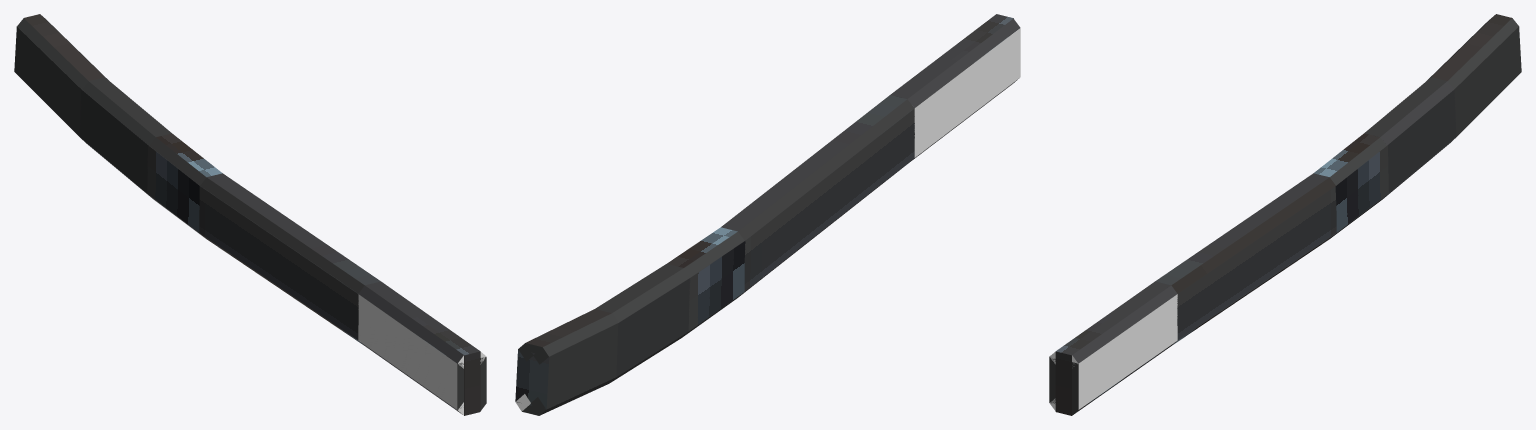
The model's file is wakizashi_sheath.obj.
3 views of the same model, side by side, from view 1: azimuth 30°, elevation 25°; view 2: azimuth 150°, elevation 25°; view 3: azimuth 330°, elevation 25° (orthographic). The views are drawn at different scales.
Parts seen in each view (by area): view 1: katana_sheath; view 2: katana_sheath; view 3: katana_sheath.
Part boxes in pixels (<box>): katana_sheath: <box>14,14,486,415</box>; katana_sheath: <box>515,14,1020,415</box>; katana_sheath: <box>1049,14,1521,415</box>.
Size of the model in its own units: 0.0576 by 0.1647 by 1.51.
